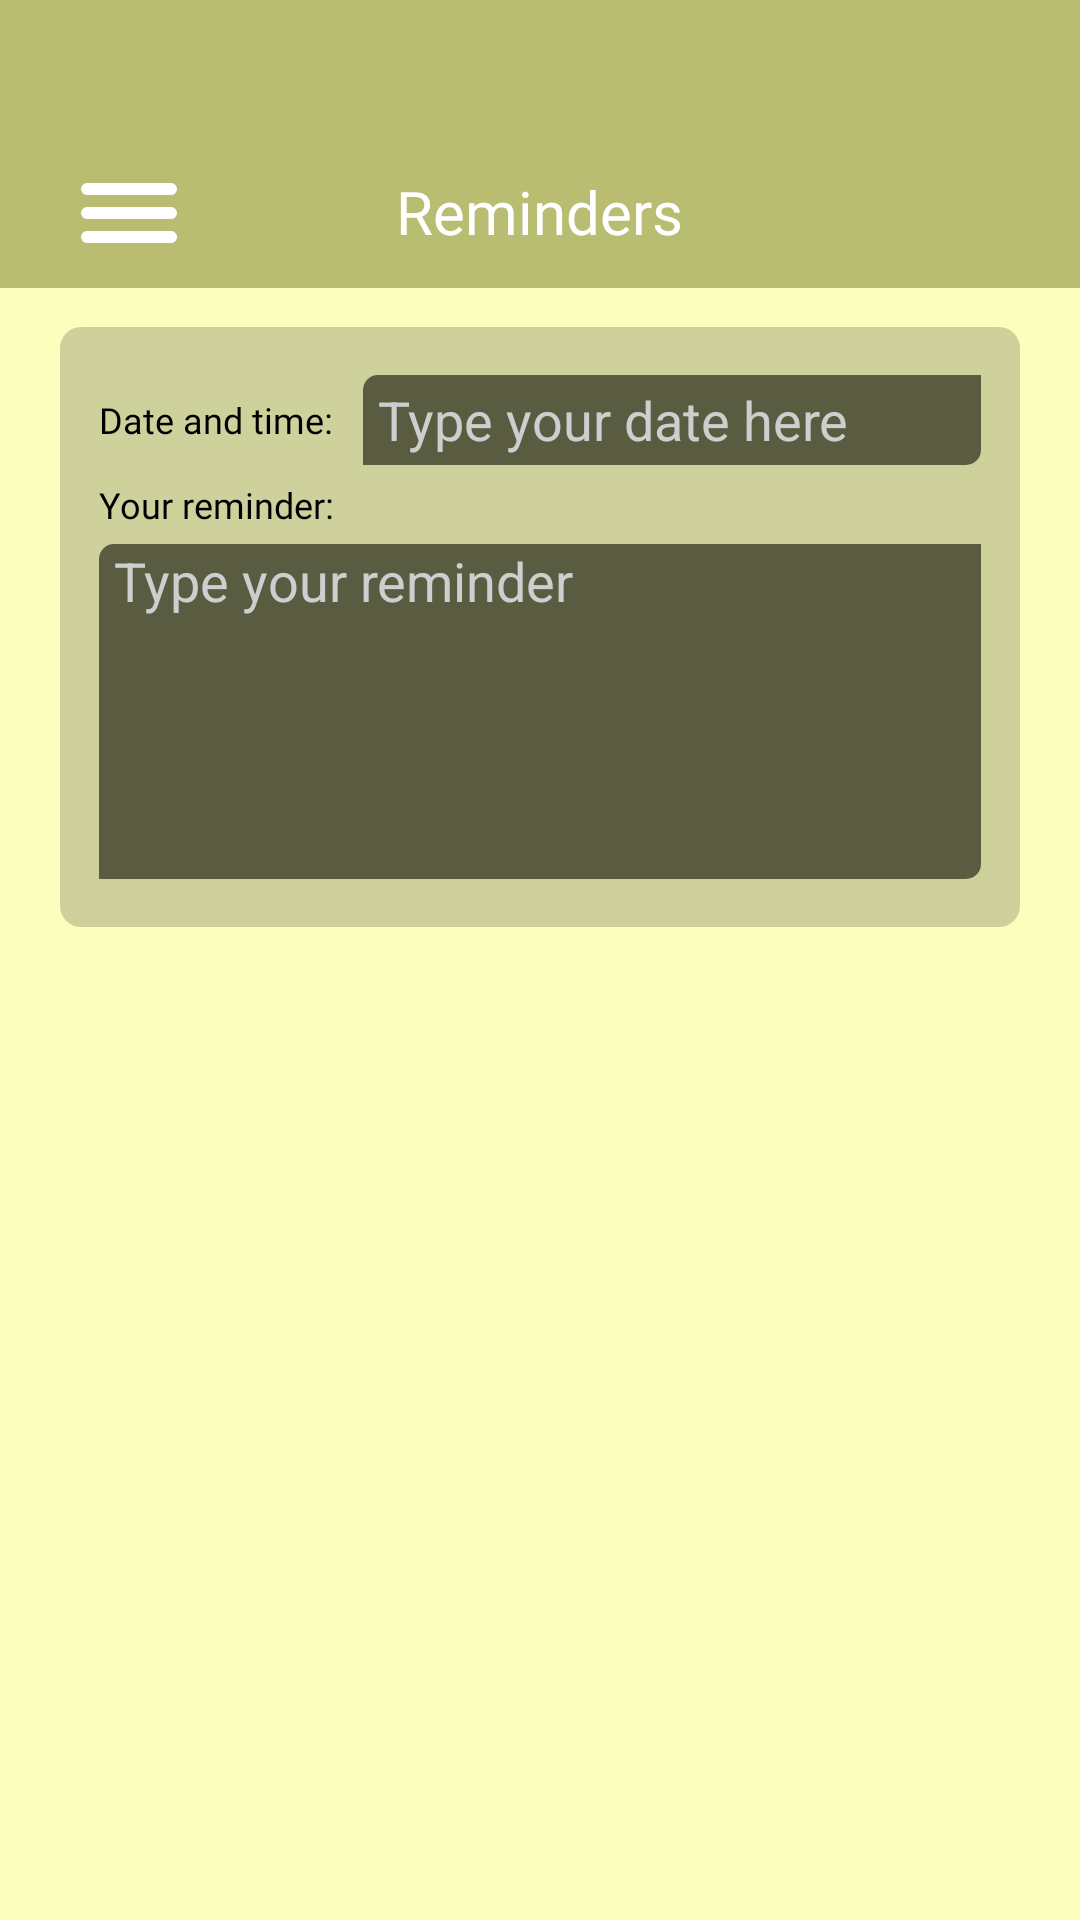

Icons on this 1080px x 1920px Android screen, each with the point to tap as [x,y]:
option: [129,213]
